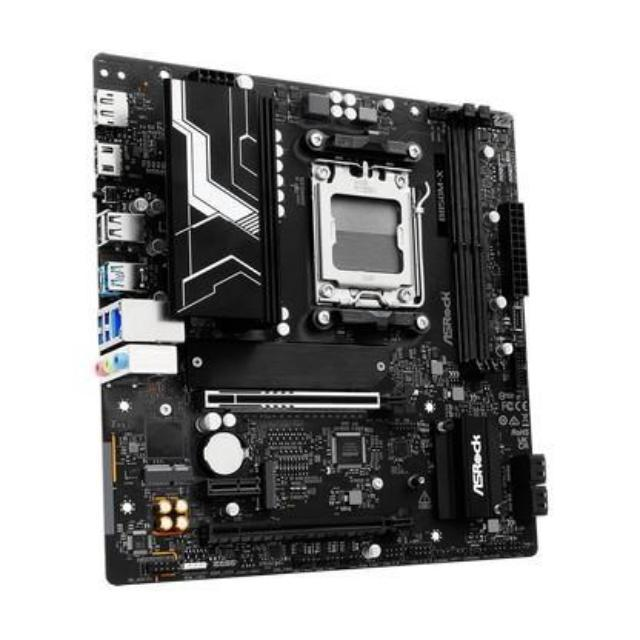Mainboard: (85, 44, 557, 593)
